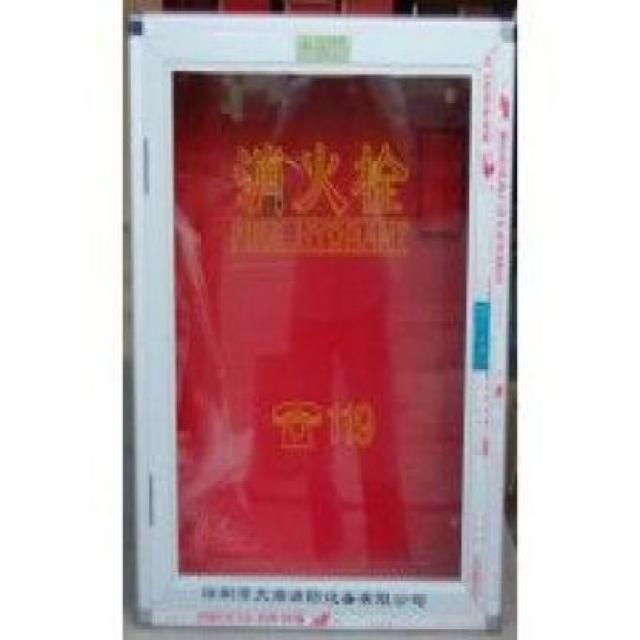firehydrant: (123, 3, 515, 639)
